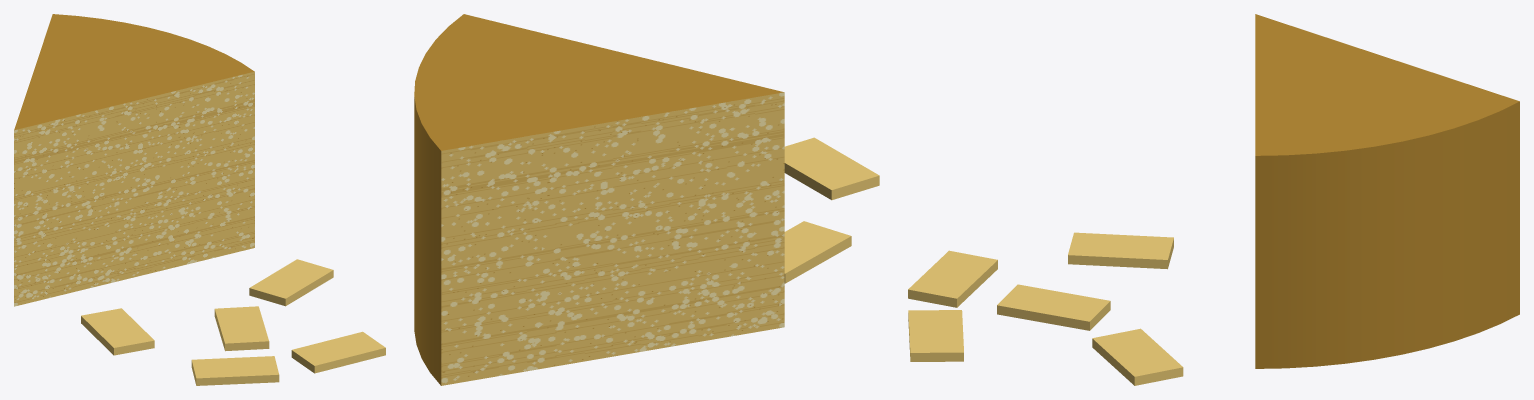
The model's file is Parmesan.fbx.
3 renders of one model, left to right at view 1: azimuth 30°, elevation 25°; view 2: azimuth 150°, elevation 25°; view 3: azimuth 270°, elevation 25°, orthographic. The views are drawn at different scales.
Parts seen in each view (by area): view 1: Parmesan; view 2: Parmesan; view 3: Parmesan.
Boxes of the visible parts, x1,y1,x2,y2 form: Parmesan: (14,14,385,385); Parmesan: (414,14,879,385); Parmesan: (908,14,1519,385).
Size of the model in its own units: 0.112 by 0.07 by 0.1822.
Materials: 3 (1 with a texture image).
